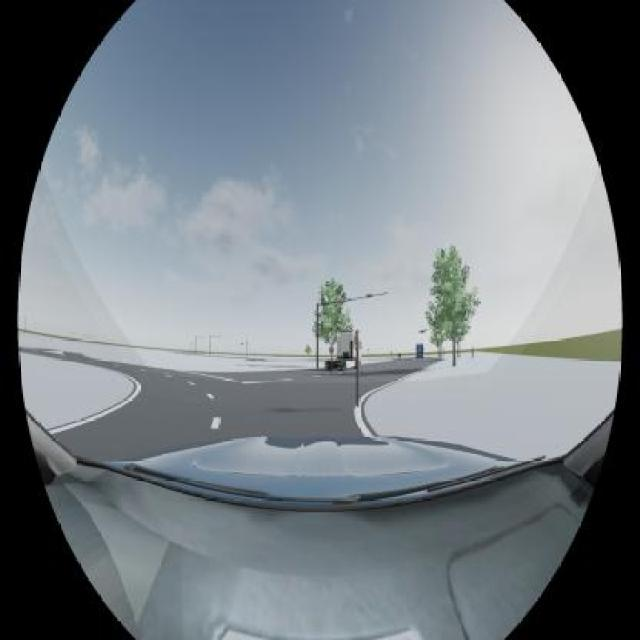forb_speed_over_60: (329, 347, 334, 353)
